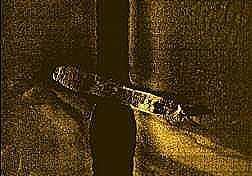ship: (51, 62, 184, 121)
